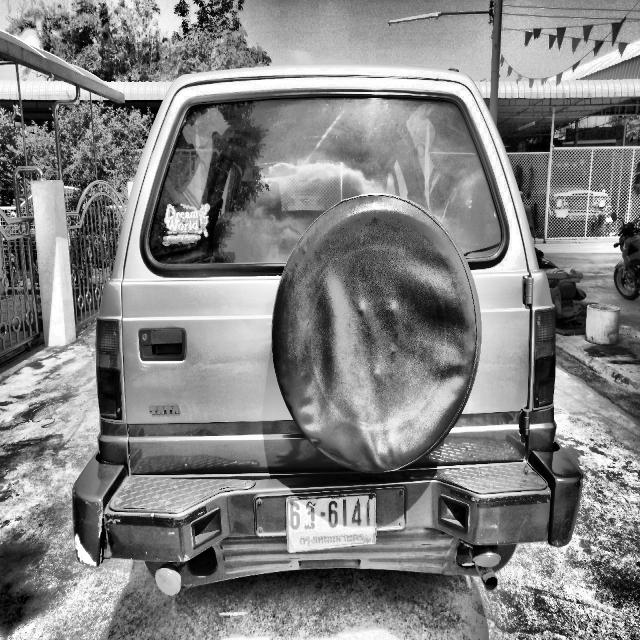license-plate: (285, 486, 381, 556)
